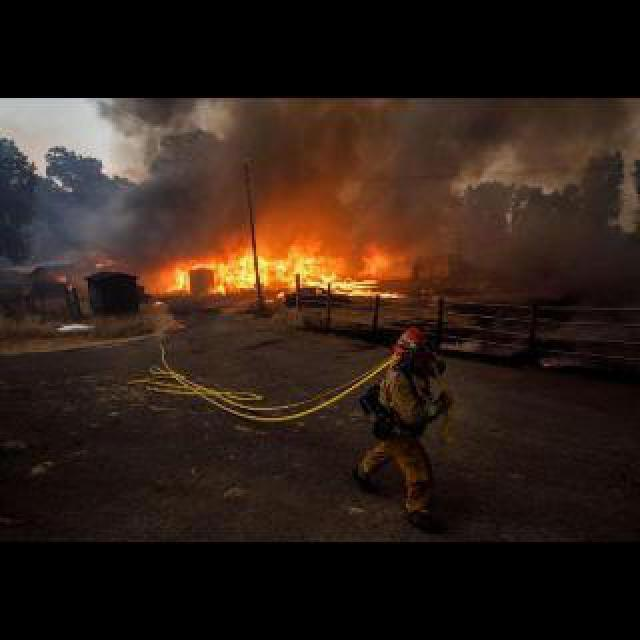Fire: (138, 220, 418, 310)
Smoke: (78, 96, 638, 244)
